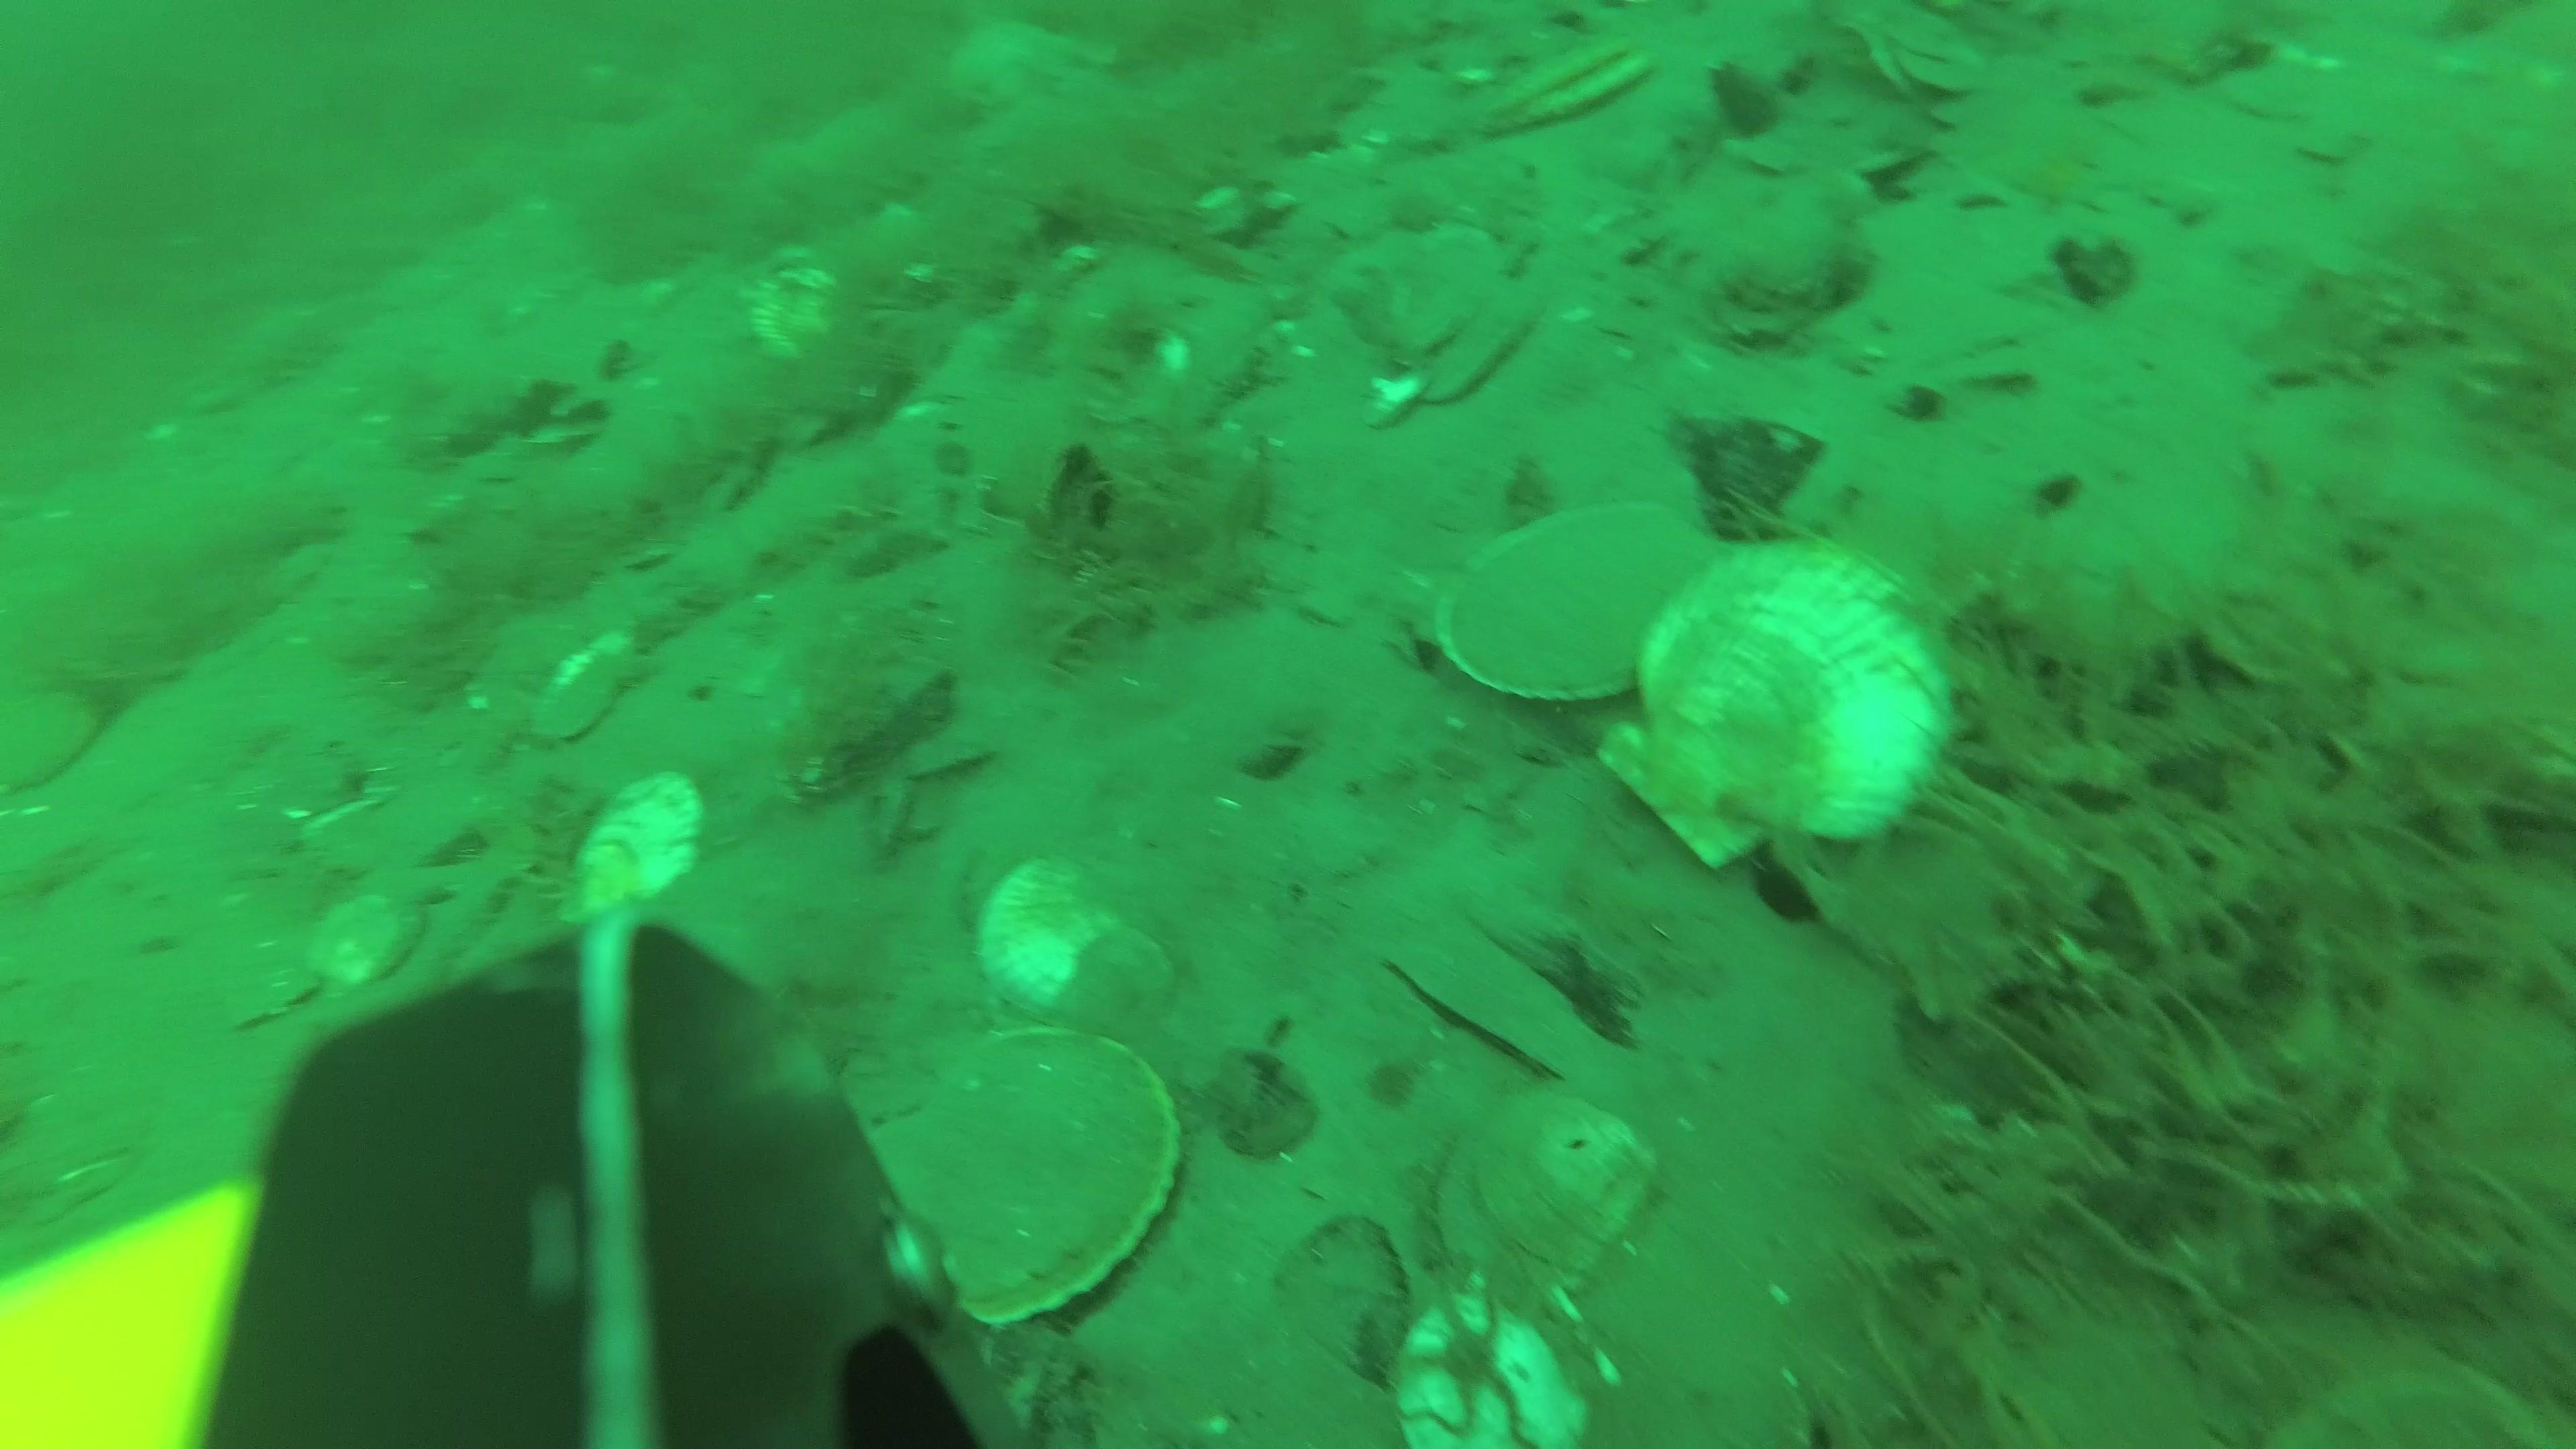scallop: (1608, 533, 1948, 870), (872, 1040, 1171, 1318), (1430, 501, 1702, 697), (1460, 1081, 1658, 1284), (1410, 1284, 1622, 1449), (978, 860, 1146, 1024), (554, 773, 702, 932), (1488, 39, 1654, 133), (1435, 278, 1539, 400), (1054, 936, 1177, 1039), (534, 625, 640, 736), (1398, 228, 1484, 350), (311, 892, 414, 982), (752, 253, 839, 352)
starfish: (955, 12, 1077, 111)
